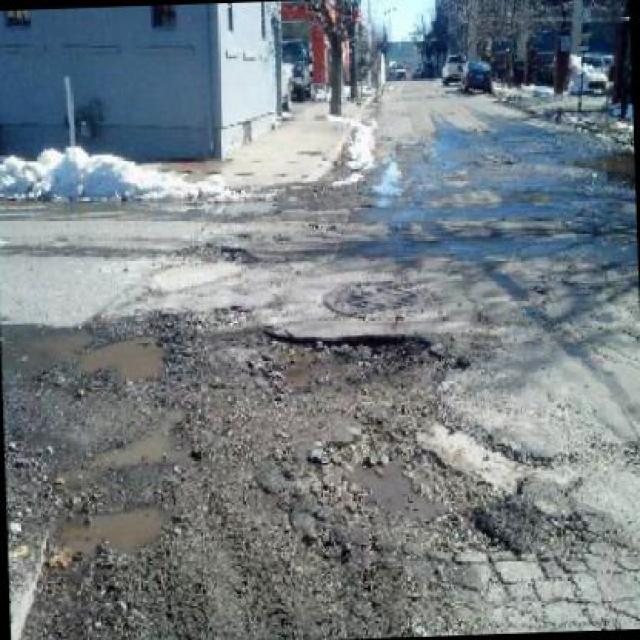pothole1: (294, 410, 498, 558), (258, 316, 450, 399), (20, 314, 189, 391), (48, 492, 175, 562), (87, 398, 201, 471), (172, 244, 258, 270)
